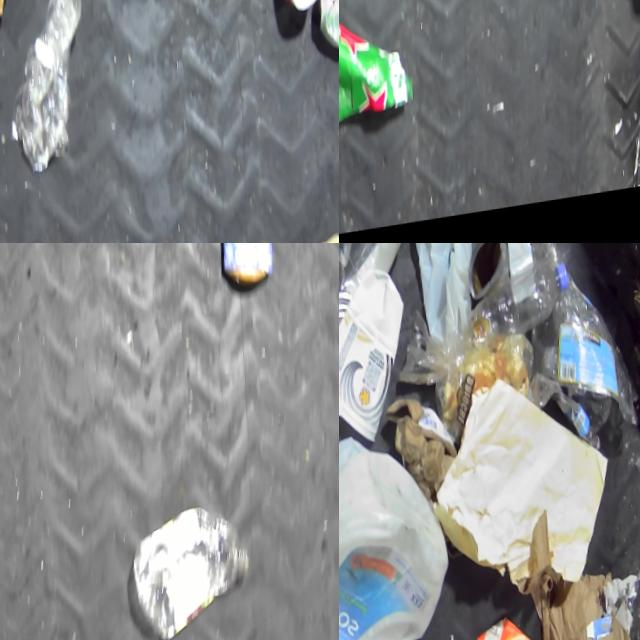can: (213, 243, 276, 301), (463, 243, 512, 310), (339, 293, 359, 425), (312, 0, 339, 69)
milk_jug: (339, 442, 461, 640), (405, 243, 480, 352), (339, 439, 374, 562)
plastic_bottle: (127, 504, 257, 640), (466, 269, 573, 355), (525, 371, 604, 470), (339, 243, 408, 336)
